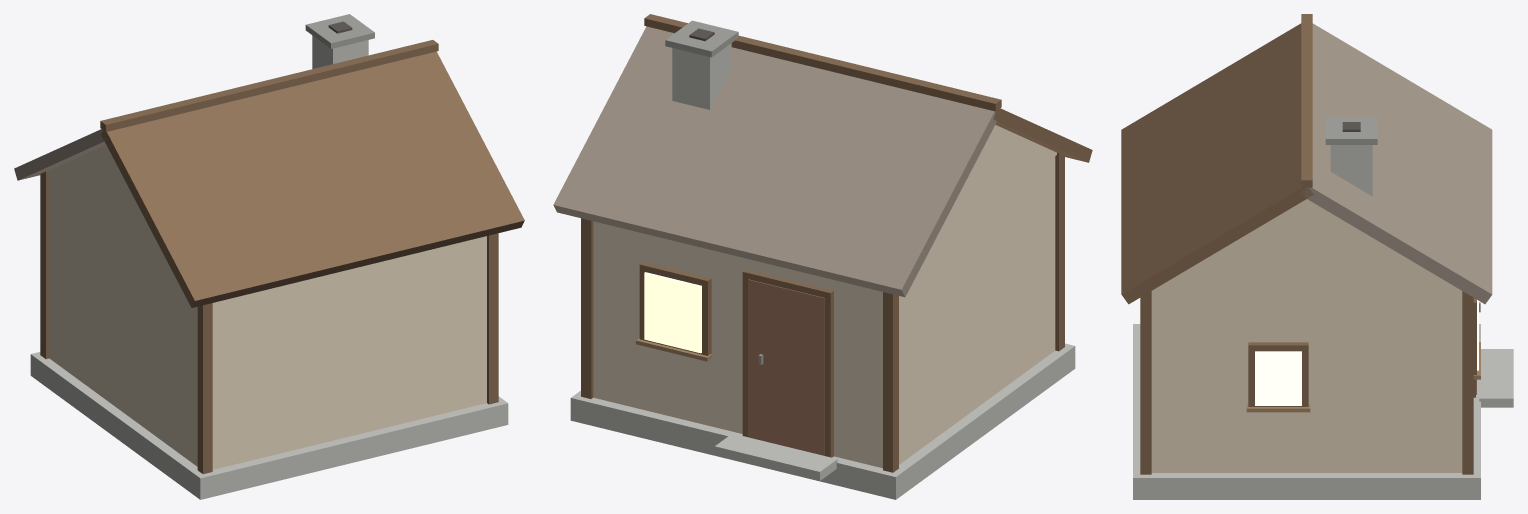
Rendered from village_cottage_c.glb.
3 views of the same model, side by side, from view 1: azimuth 30°, elevation 25°; view 2: azimuth 150°, elevation 25°; view 3: azimuth 270°, elevation 25° (orthographic). The views are drawn at different scales.
Parts seen in each view (by area): view 1: village_cottage_c; view 2: village_cottage_c; view 3: village_cottage_c.
Part boxes in pixels (left/top/right/bottom): village_cottage_c: left=14, top=14, right=524, bottom=499; village_cottage_c: left=553, top=14, right=1092, bottom=499; village_cottage_c: left=1121, top=14, right=1513, bottom=499.
Size of the model in its own units: 4.84 by 4.66 by 4.82.
